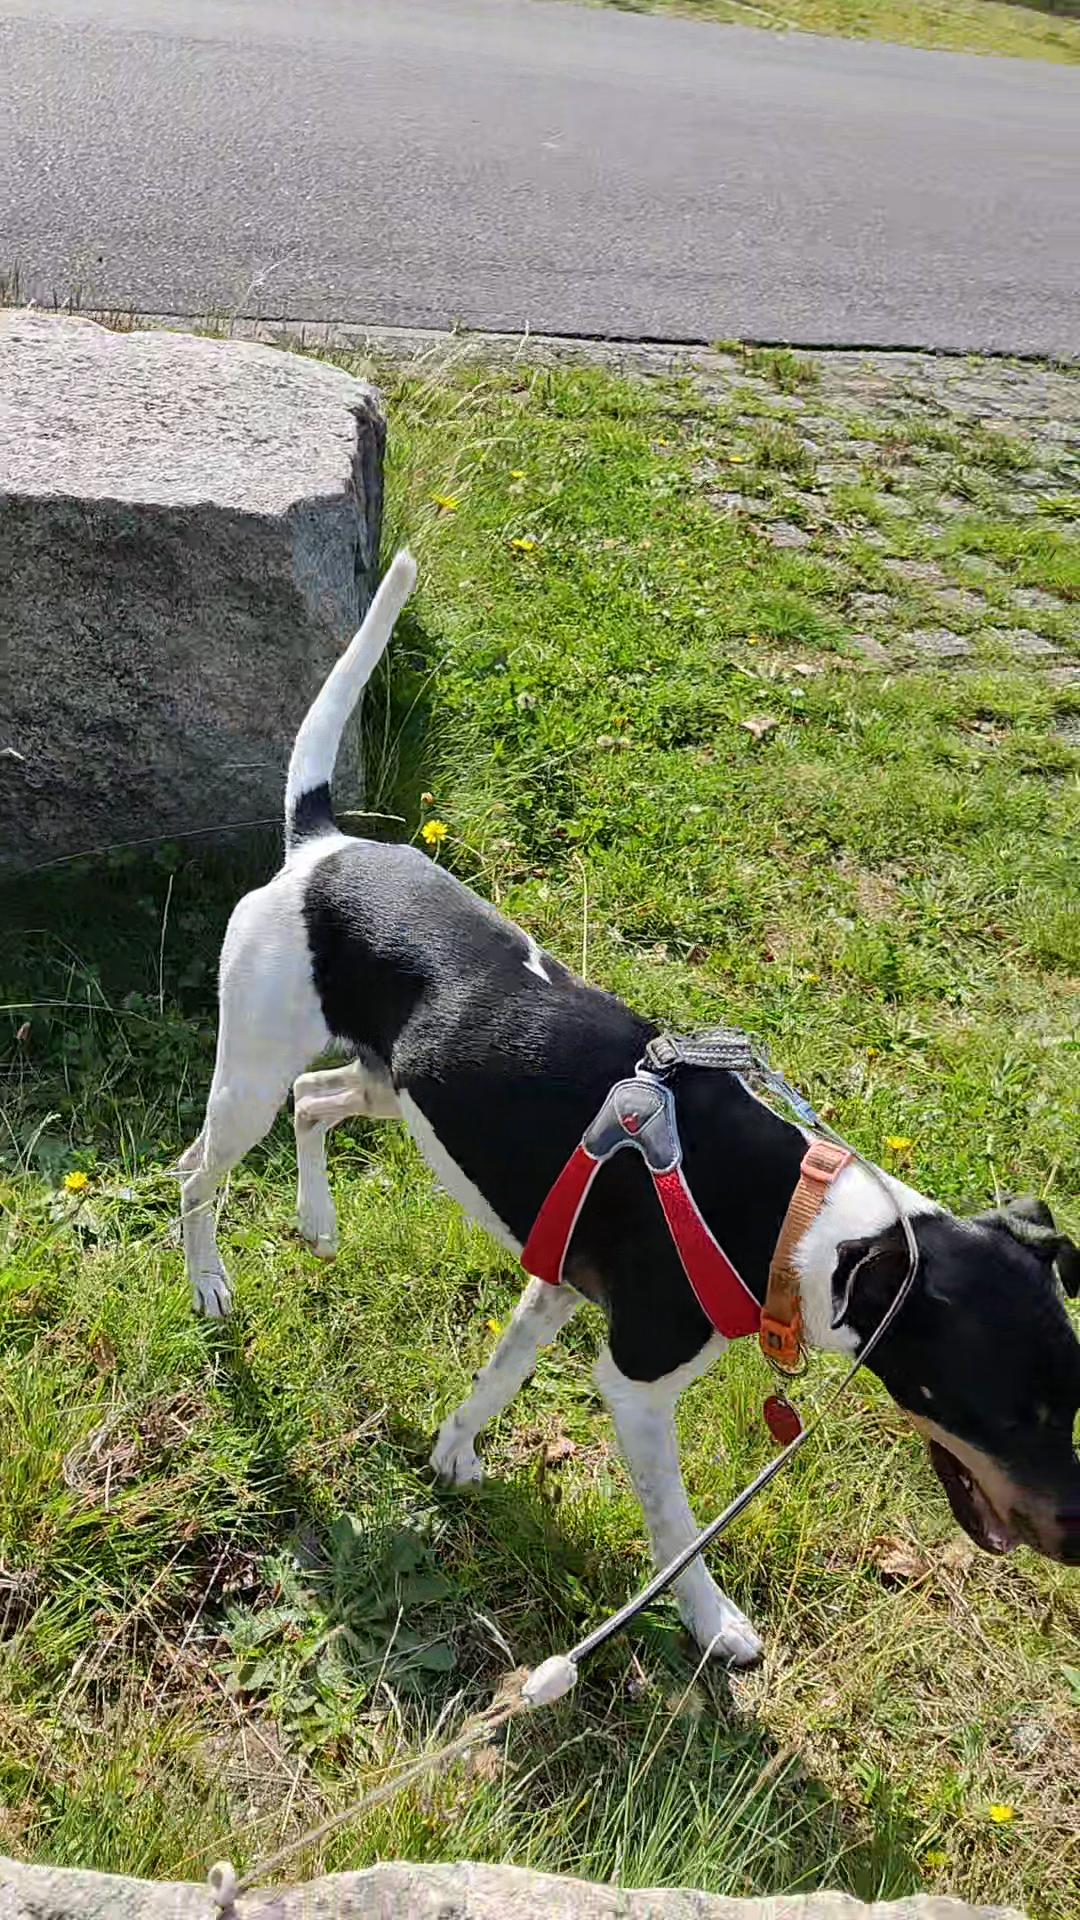Dog: (161, 524, 1079, 1702)
